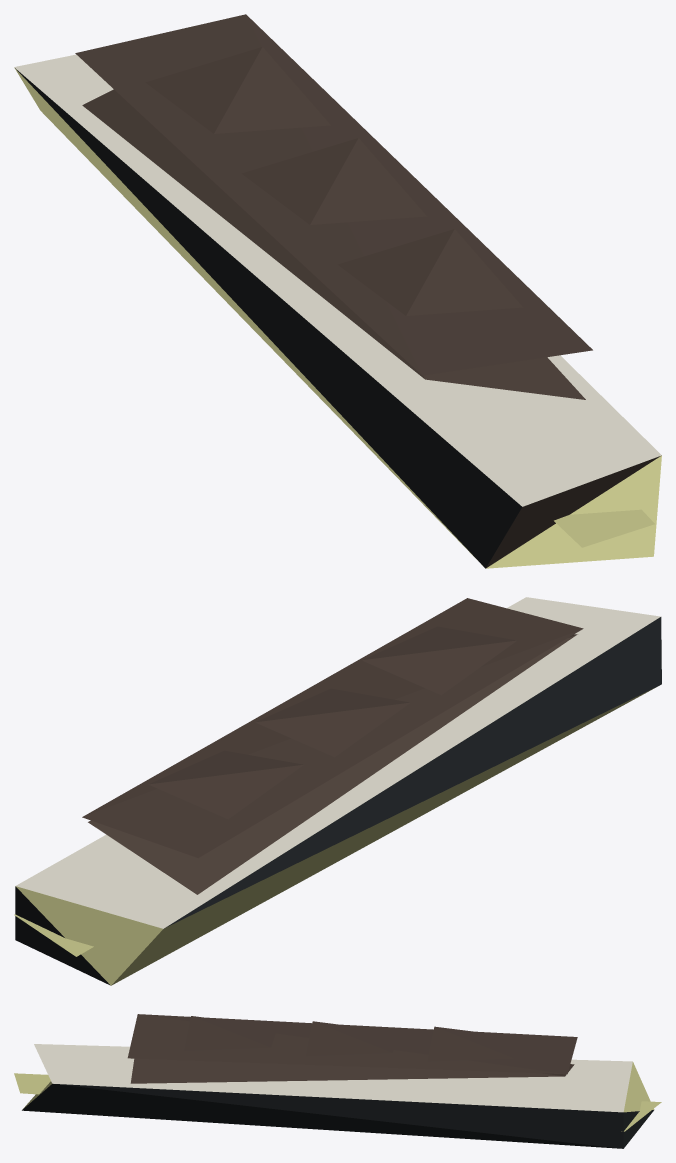
Rendered from houseboat-museum.lod2.glb.
3 renders of one model, top to bottom at view 1: azimuth 30°, elevation 25°; view 2: azimuth 150°, elevation 25°; view 3: azimuth 270°, elevation 25°, orthographic. The views are drawn at different scales.
Visible parts, largest first — view 1: lod2; view 2: lod2; view 3: lod2.
Part boxes in pixels (x1=…): lod2: x1=14, y1=14, x2=661, y2=568; lod2: x1=14, y1=597, x2=661, y2=985; lod2: x1=14, y1=1014, x2=661, y2=1148.
Size of the model in its own units: 6.27 by 2.92 by 23.36.
